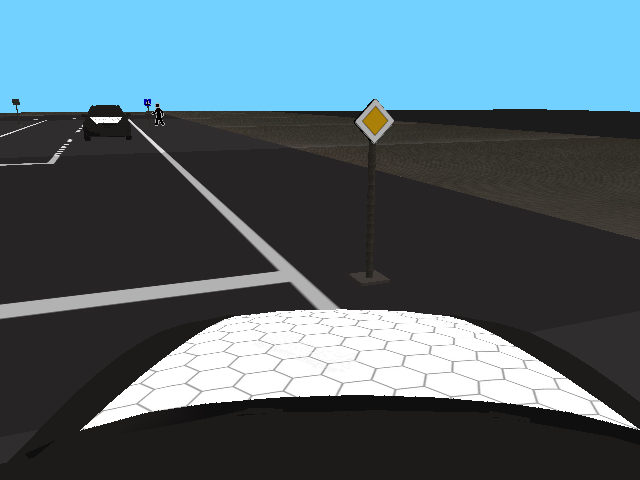priority: (355, 99, 395, 144)
